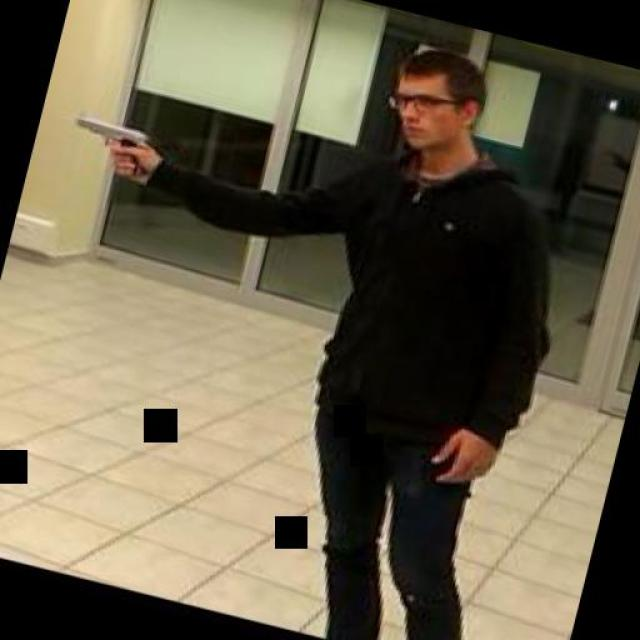gun: (58, 108, 154, 180)
